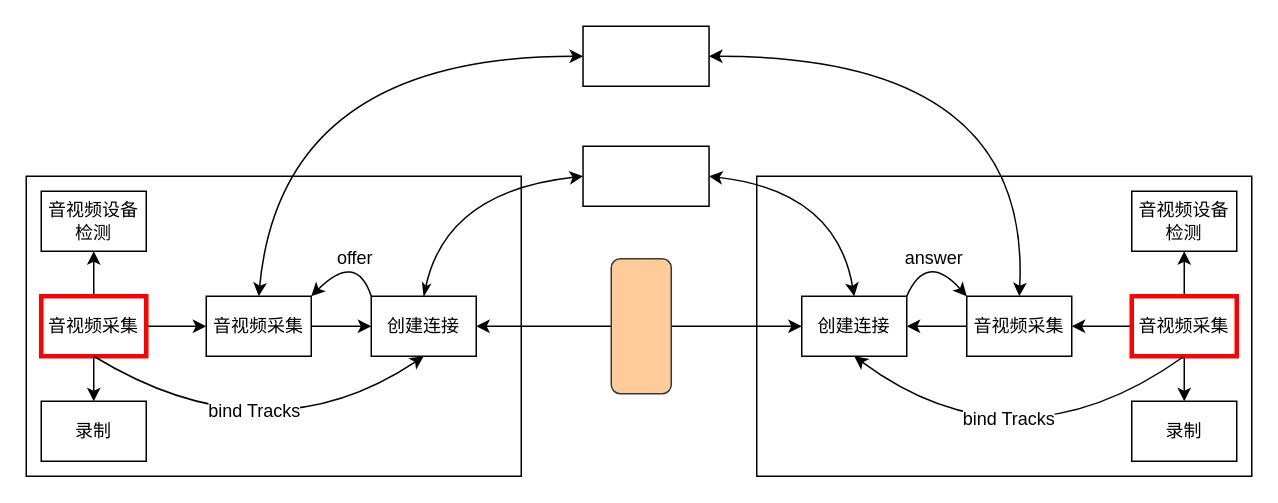
Image size: 1278x503. Some labels were removed from this diagram. Here are the shapes that lost their labels. From the top down, the centre of each, then its label:
At pixel 645 55: "Signal Server".
At pixel 645 175: "STUN/TURN".
At pixel 640 325: "NAT".
